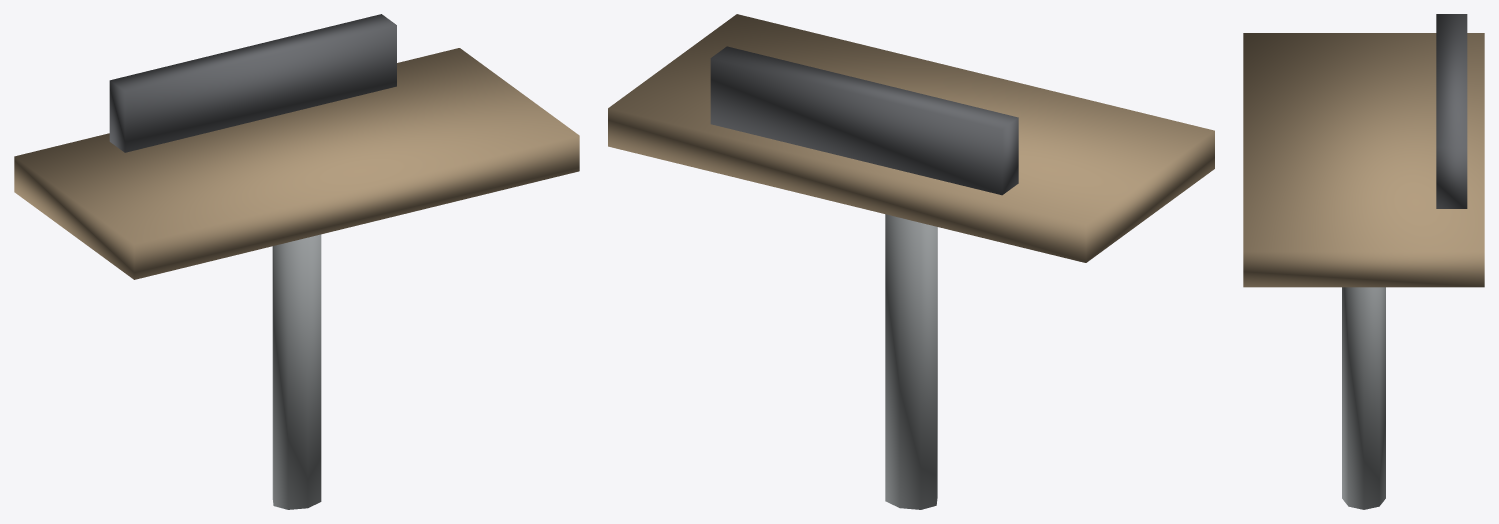
File: deposit_desk__wide.glb
3 renders of one model, left to right at view 1: azimuth 30°, elevation 25°; view 2: azimuth 150°, elevation 25°; view 3: azimuth 270°, elevation 25°, orthographic. The views are drawn at different scales.
Visible parts, largest first — view 1: world; view 2: world; view 3: world.
Boxes of the visible parts, <box> form: world: <box>14,14,579,509</box>; world: <box>608,14,1214,509</box>; world: <box>1243,14,1484,509</box>.
Bounding box in the file's own units: 1.18 × 1.05 × 0.55.
